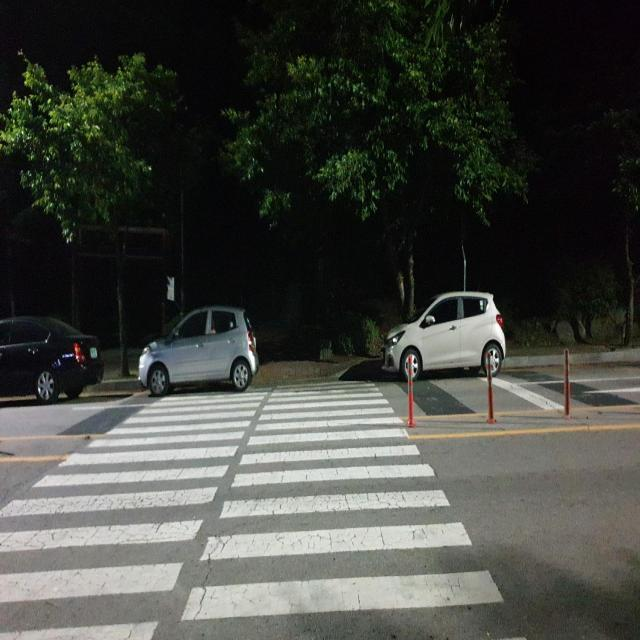횡단보도: (0, 380, 506, 639)
